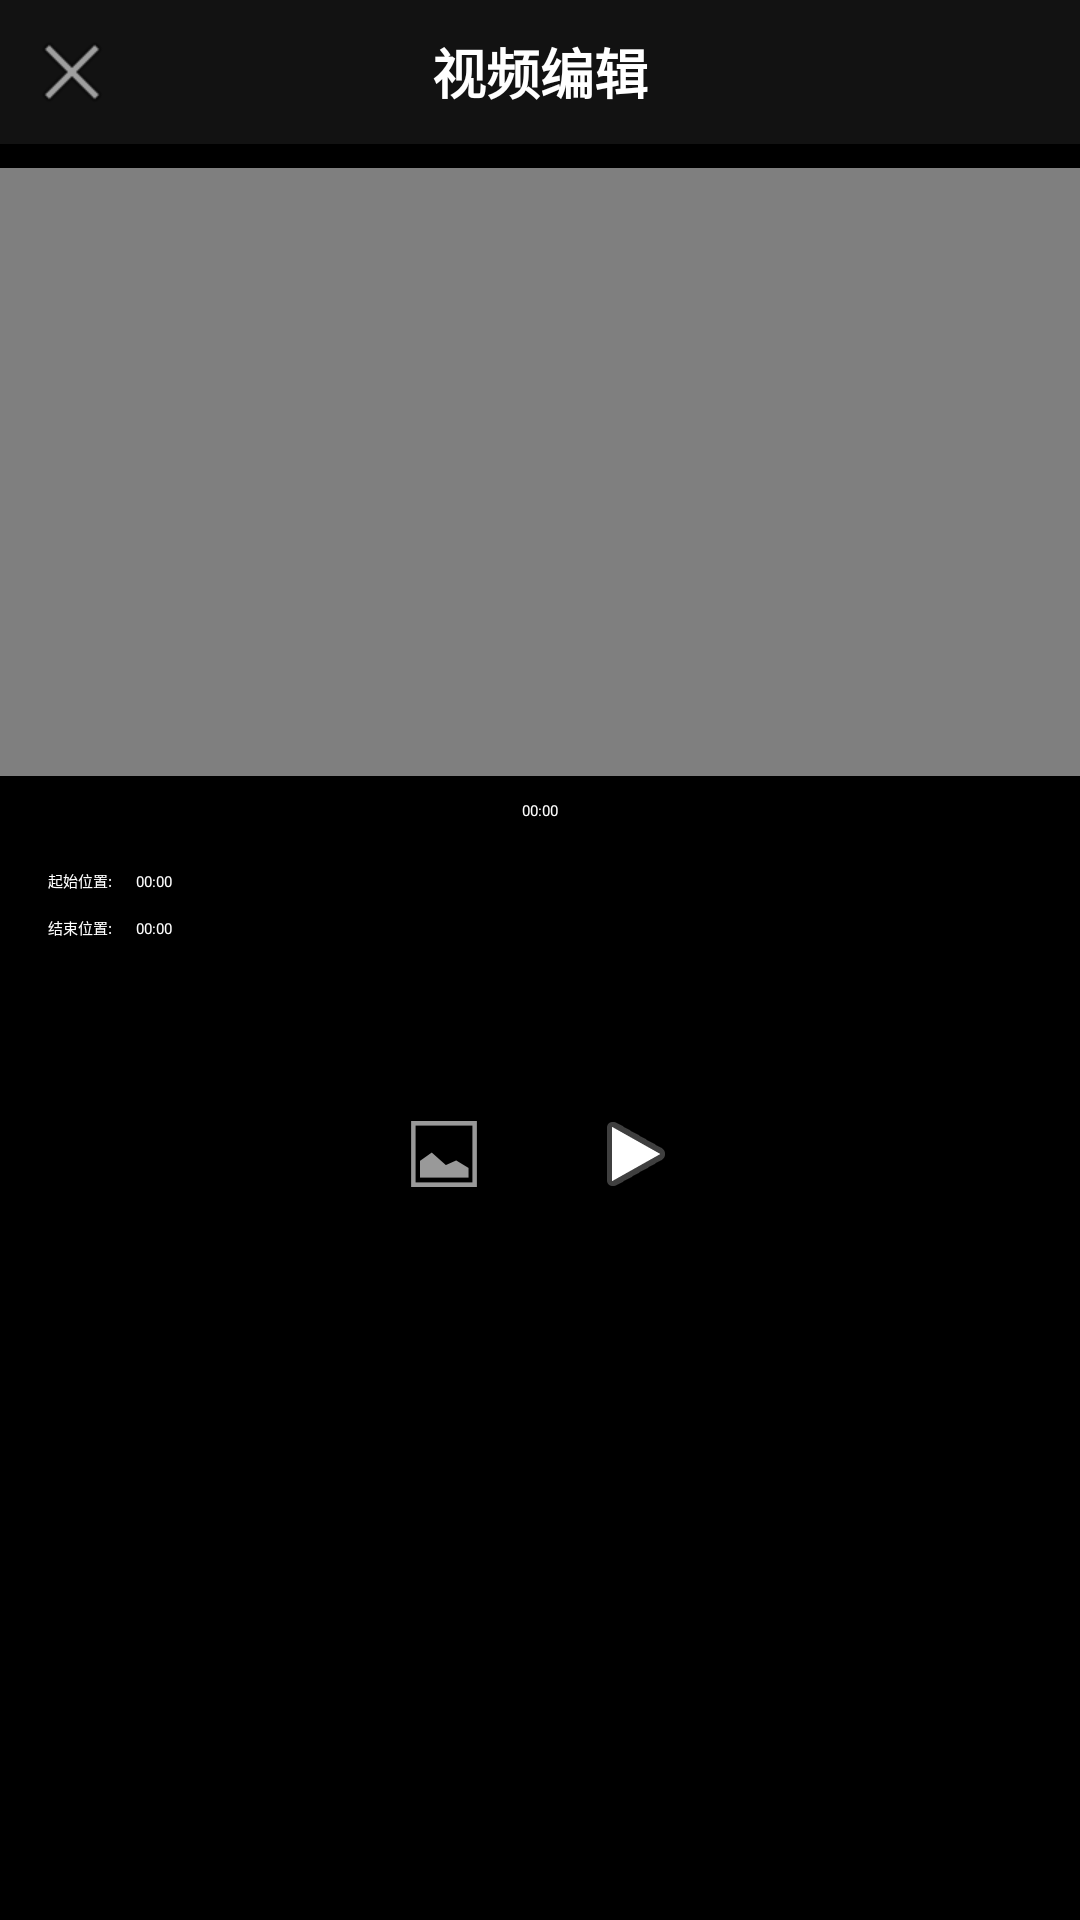

Named icons in this screenshot (1080w x 1920h) and their centers, (x,y):
返回: (72,72)
